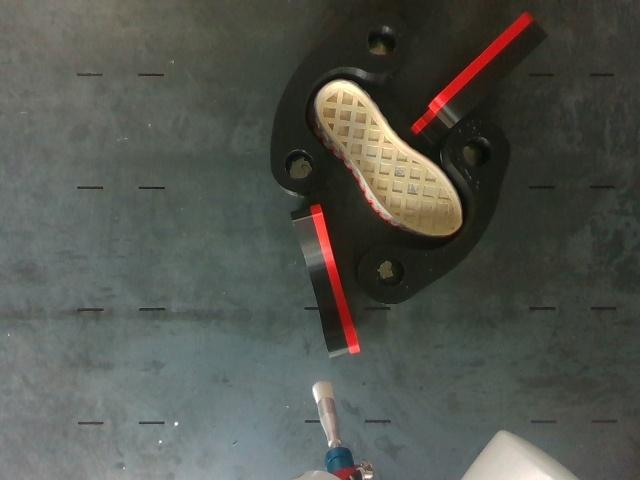shoes: (317, 81, 462, 236)
